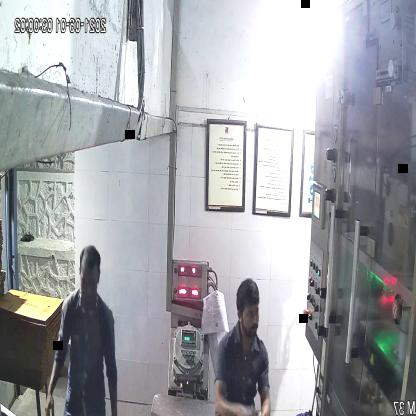no_goggles: (236, 306, 262, 325)
